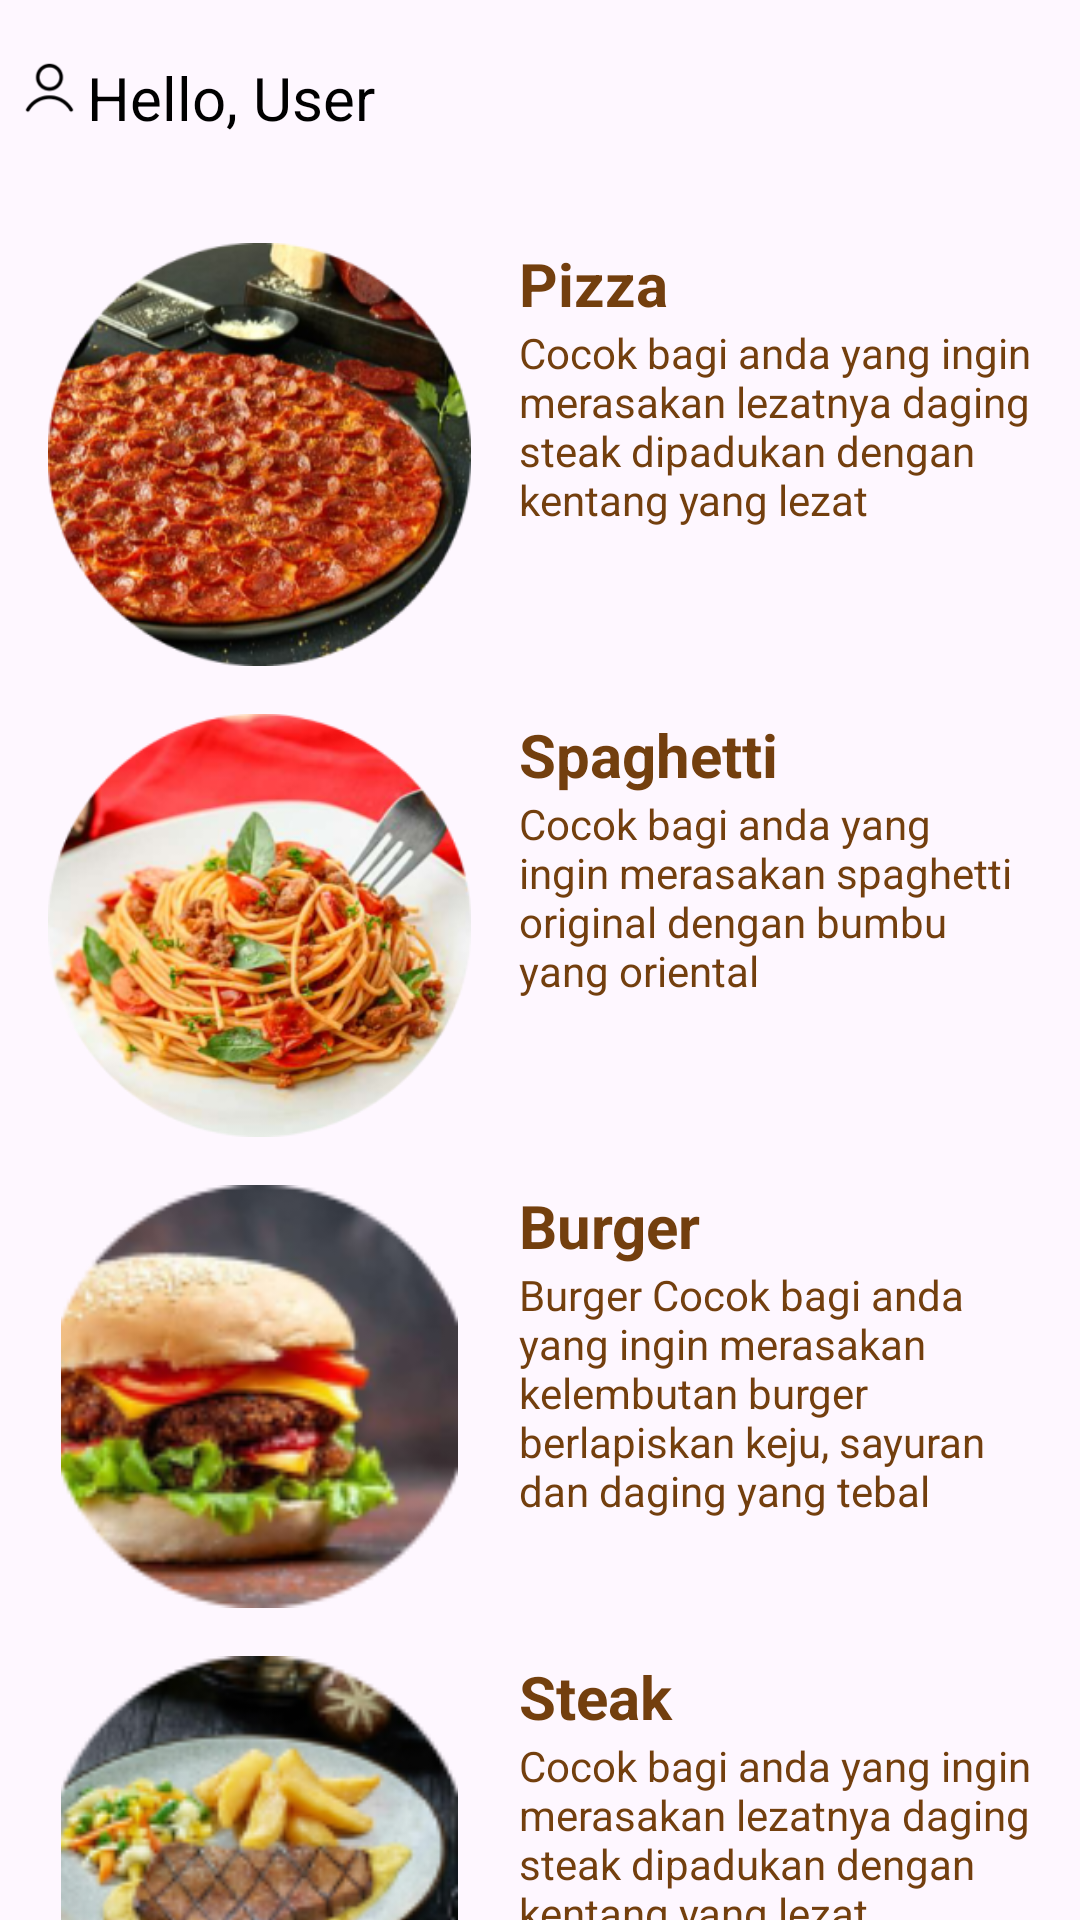

Named icons in this screenshot (1080px x 1920px) and their centers, (x=x, y=y):
person custom: (x=49, y=87)
